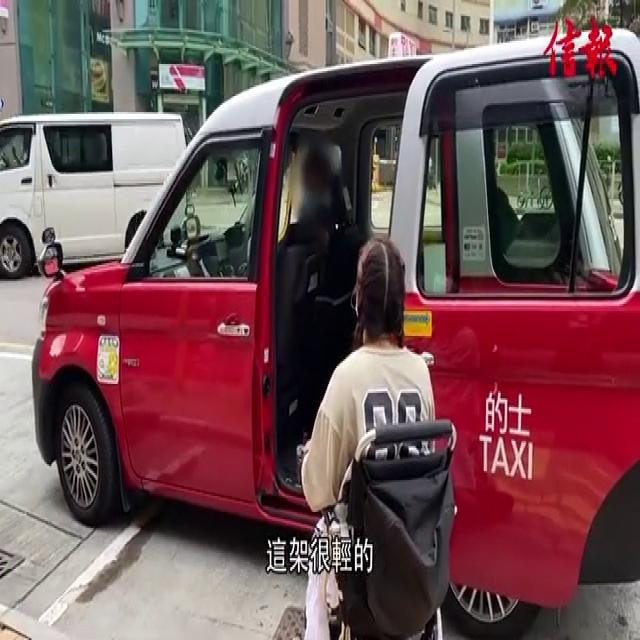wheelchairs: (292, 400, 486, 640)
